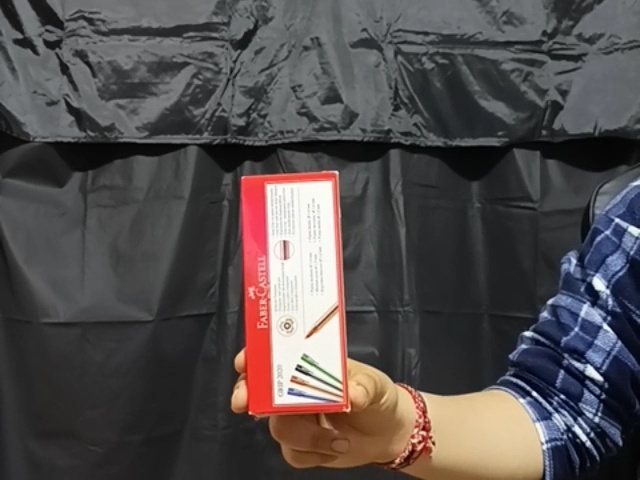xd: (237, 169, 350, 414)
